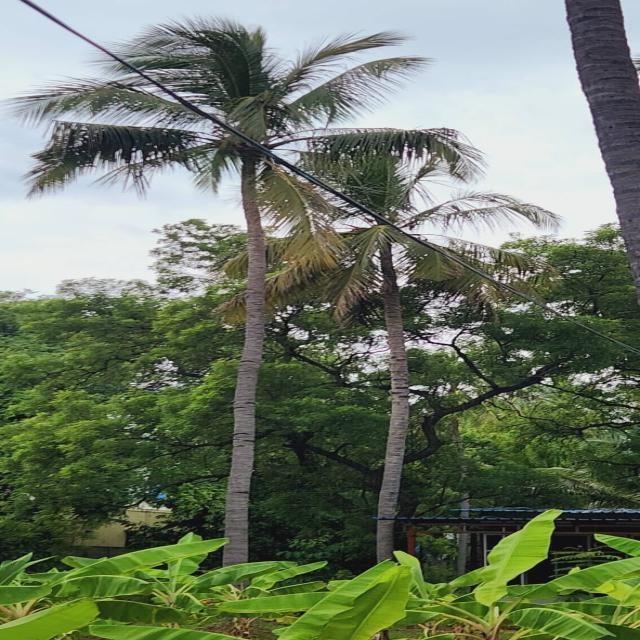Coconut-tree: (89, 32, 317, 592), (286, 143, 504, 577)
